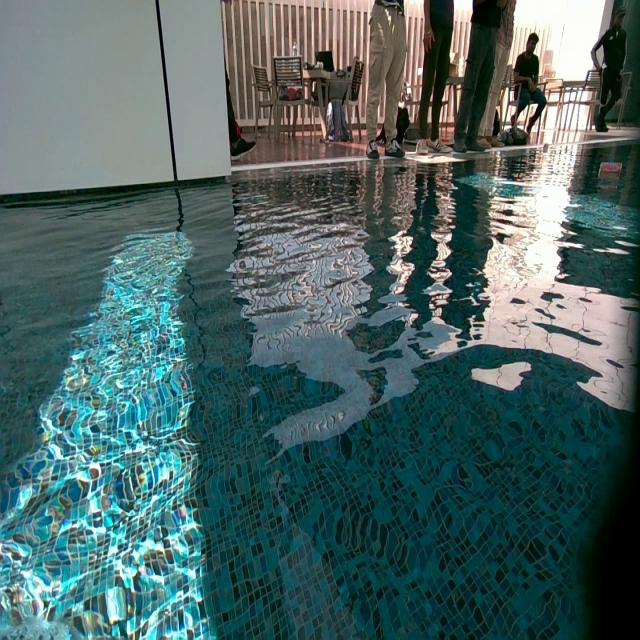Cans: (599, 162, 622, 180)
